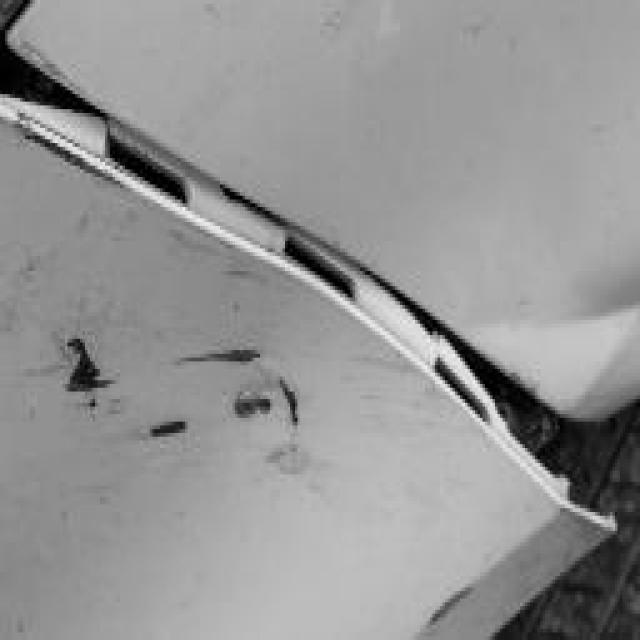Bumper: (10, 275, 335, 557)
